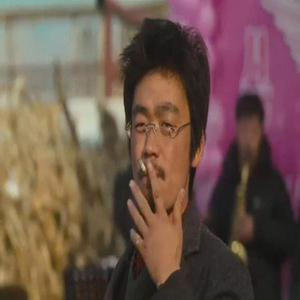cigarette: (138, 159, 148, 175)
